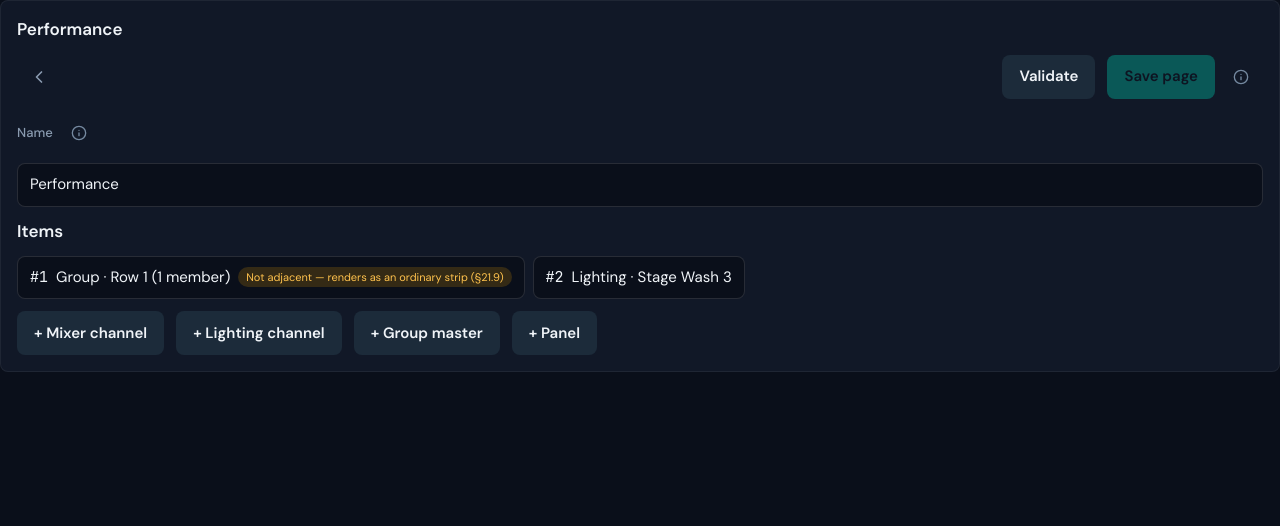
PageEditor › renders validate findings against the item they name, and offers to remove duplicates
Step 1. Click the button "Validate" → point(1049, 76), box [1002,54,1096,98]
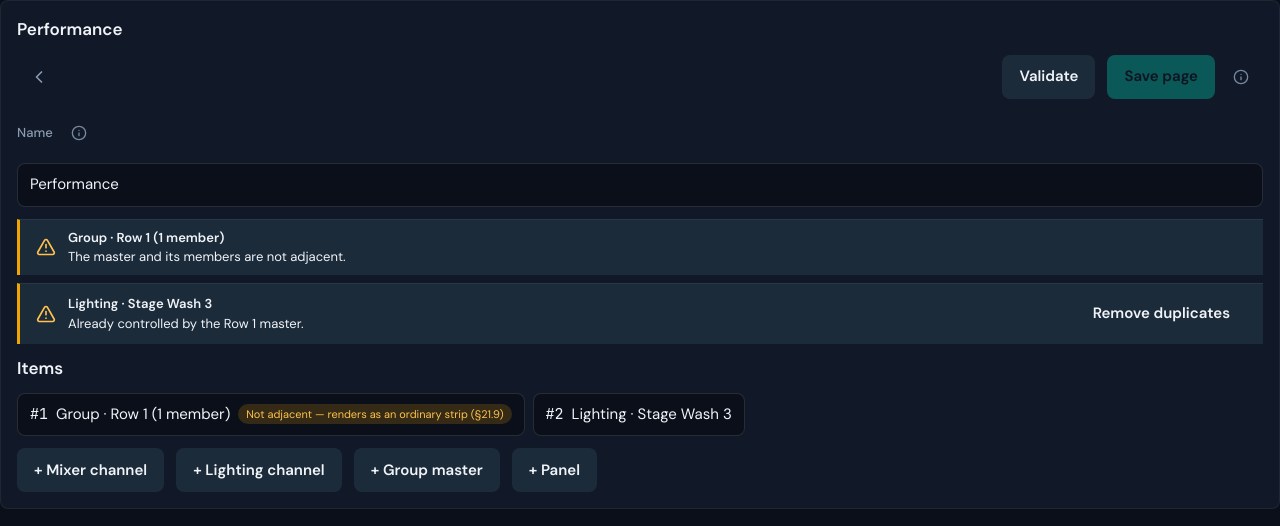
Result: the text "Already controlled by the Row 1 master." is shown at [68,314,304,332]
Result: the 1st text "Group · Row 1 (1 member)" is shown at [68,228,224,246]
Step 2. Click the button "Remove duplicates" → point(1161, 314), box [1076,292,1247,336]
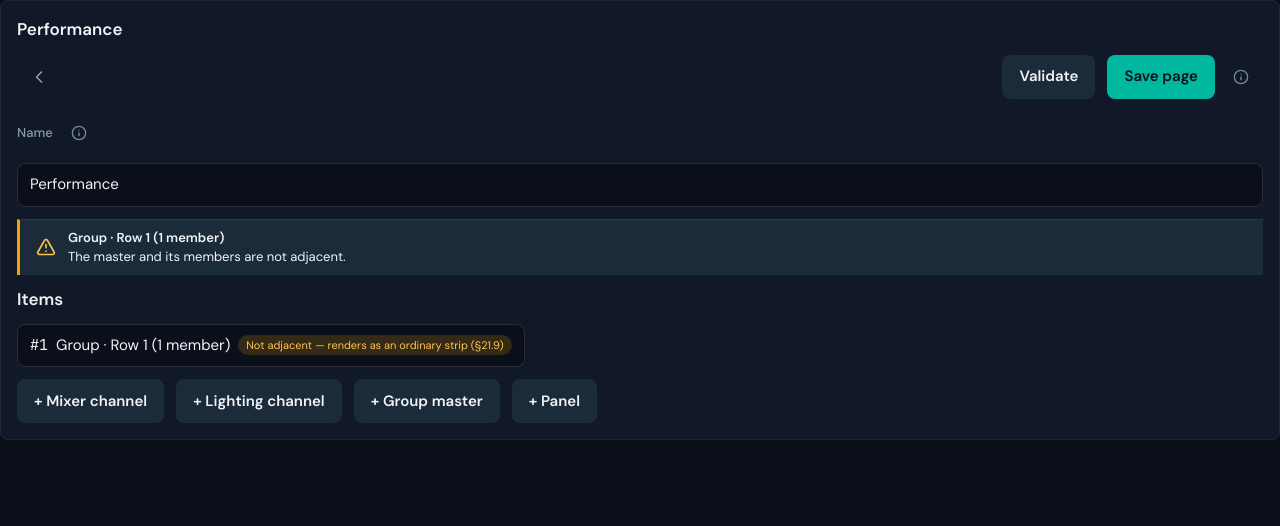
Result: the text "The master and its members are not adjacent." is shown at [68,248,346,265]
Result: the text "Lighting · Stage Wash 3" is gone
Result: the text "Already controlled by the Row 1 master." is gone
